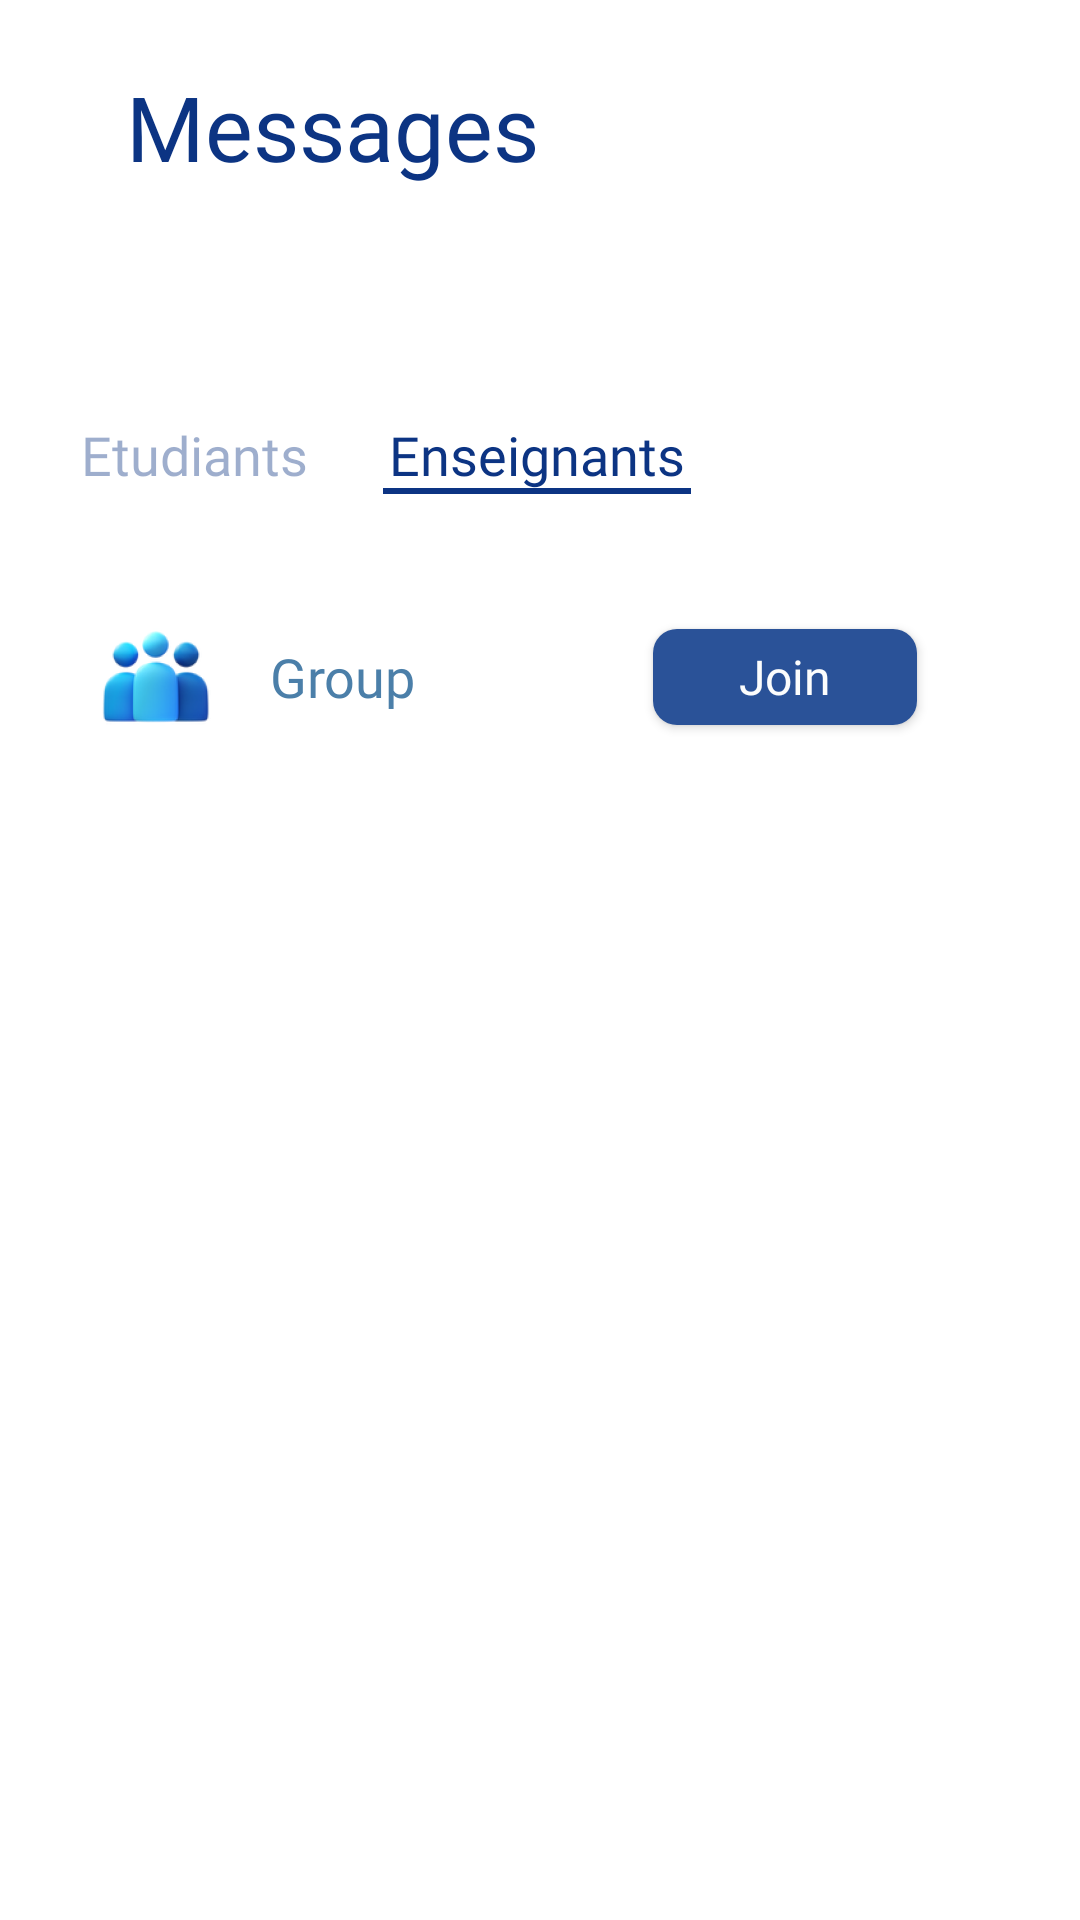

Named icons in this screenshot (1080 x 1920) and their bounding boxes, (x1, y1, x2, y2):
people: (103, 631, 209, 722)
